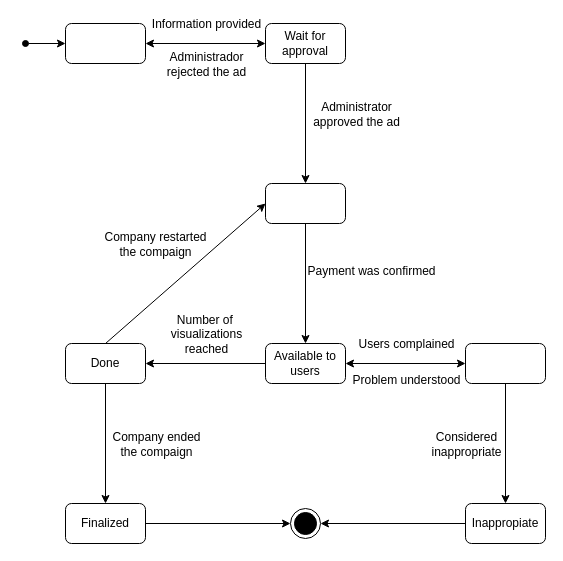
This 563x561 diagram has some shape labels left out. Here are the shapes that lost their labels. From the top down, the box of each, then its label:
(64, 22, 146, 64): Empty
(264, 182, 346, 224): Wait for payment
(464, 342, 546, 384): Blocked
